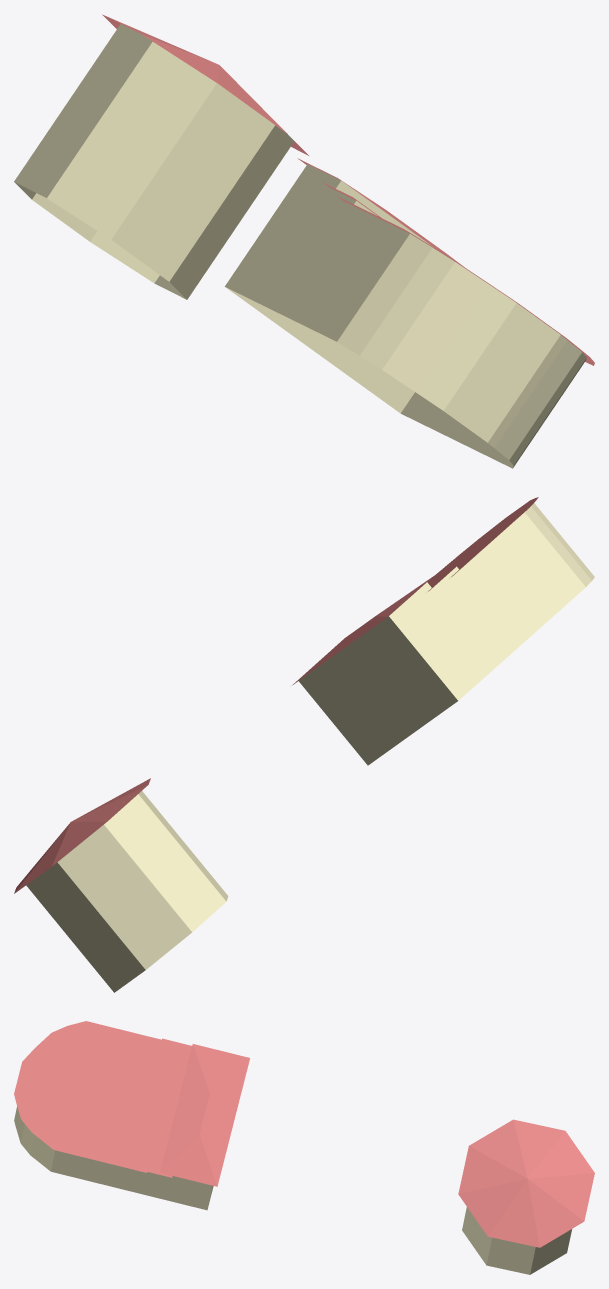
Rendered from tile_046.glb.
3 renders of one model, top to bottom at view 1: azimuth 30°, elevation 25°; view 2: azimuth 150°, elevation 25°; view 3: azimuth 270°, elevation 25°, orthographic. The views are drawn at different scales.
Visible parts, largest first — view 1: Batched_Building_ID_05974C99-B53A-4822-A5F5-32292453483F; view 2: Batched_Building_ID_05974C99-B53A-4822-A5F5-32292453483F; view 3: Batched_Building_ID_05974C99-B53A-4822-A5F5-32292453483F.
Boxes of the visible parts, x1=… form: Batched_Building_ID_05974C99-B53A-4822-A5F5-32292453483F: x1=14, y1=14, x2=594, y2=468; Batched_Building_ID_05974C99-B53A-4822-A5F5-32292453483F: x1=14, y1=497, x2=594, y2=992; Batched_Building_ID_05974C99-B53A-4822-A5F5-32292453483F: x1=14, y1=1021, x2=594, y2=1274.
Bounding box in the file's own units: 20.66 × 21.83 × 53.96.
